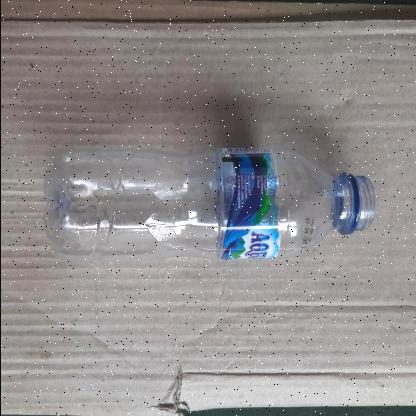Plastic Bottle: (42, 148, 374, 258)
